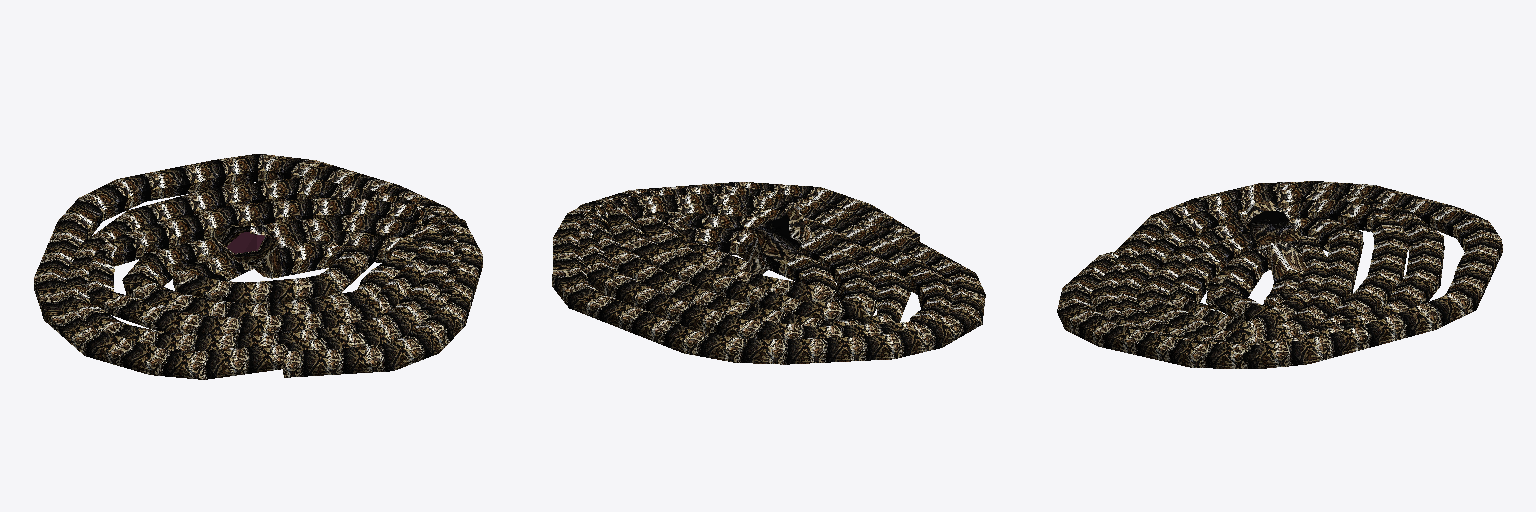
The picture shows the model from 3 angles: view 1: azimuth 30°, elevation 25°; view 2: azimuth 150°, elevation 25°; view 3: azimuth 270°, elevation 25°; orthographic projection.
Parts seen in each view (by area): view 1: snakeBrown1Main; view 2: snakeBrown1Main; view 3: snakeBrown1Main.
Part boxes in pixels (bbox=[...]): snakeBrown1Main: bbox=[34, 154, 482, 379]; snakeBrown1Main: bbox=[552, 182, 985, 364]; snakeBrown1Main: bbox=[1057, 181, 1502, 368].
Bounding box in the file's own units: 3.77 × 0.8302 × 3.67.
Materials: 2 (1 with a texture image).